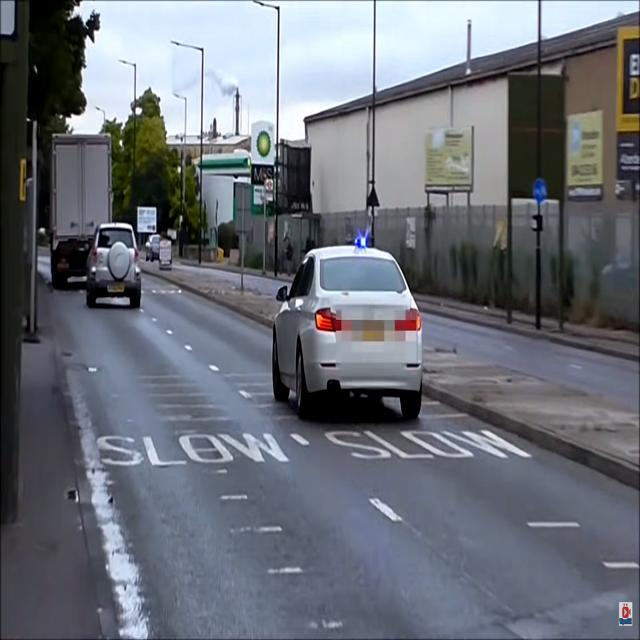emergency-vehicles: (250, 228, 445, 435)
